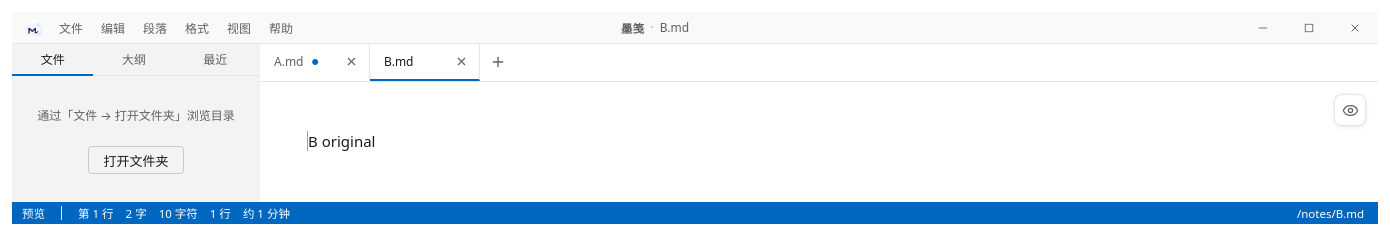
multi-document workflows › keeps the editor instance, selection and undo history across tab switches
Expected: the element with class "cm-editor" is shown, [260,82,1378,202]
What coordinates should you click on to do the following:
click the tab "A.md ●"
I would click on:
 (299, 62)
Its box is [260,44,338,79].
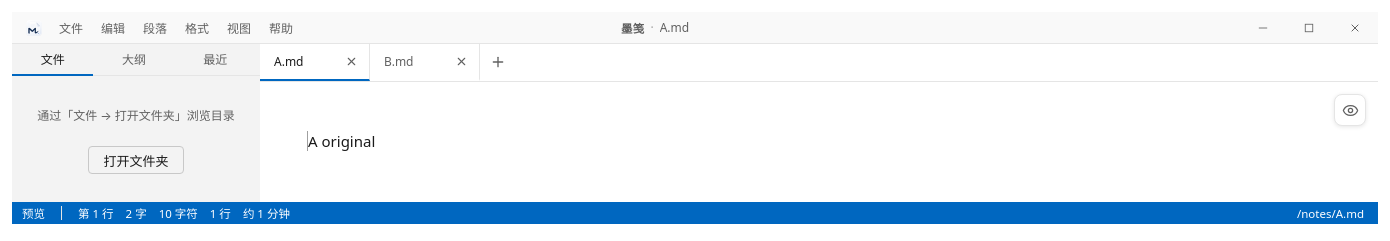
Expected: the element with class "cm-editor" is shown, [260,82,1378,202]
Expected: the text box labelled "A original" is shown, [308,131,375,151]
Expected: the button "/notes/A.md" is shown, [1293,206,1368,221]
